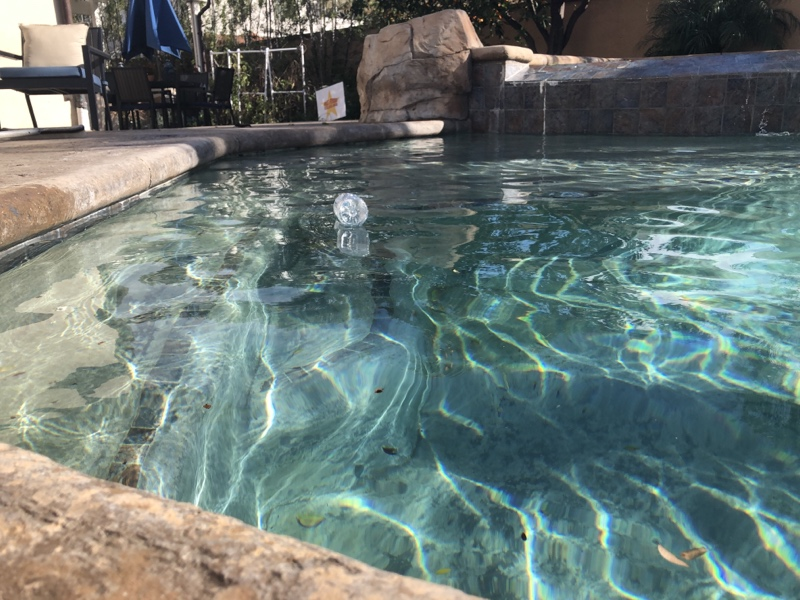Plastic Bottle: (331, 189, 371, 231)
